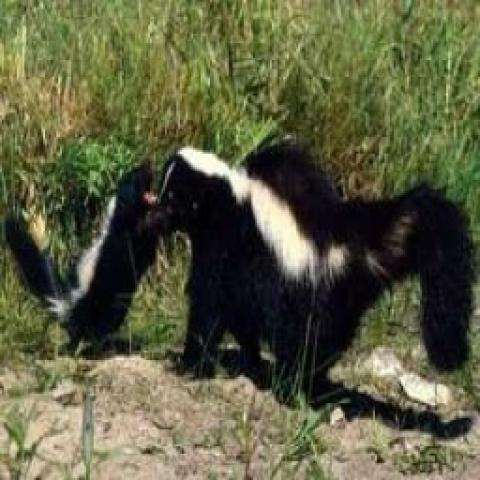small_animal: (154, 139, 474, 403), (7, 142, 179, 354)
